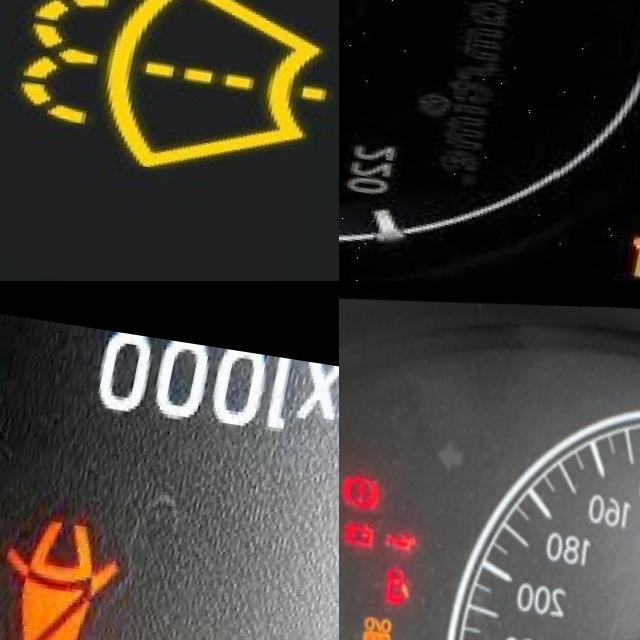Doors: (393, 559, 433, 607)
Seat Belt: (0, 504, 139, 640)
Washer Fluid: (25, 0, 339, 183)
